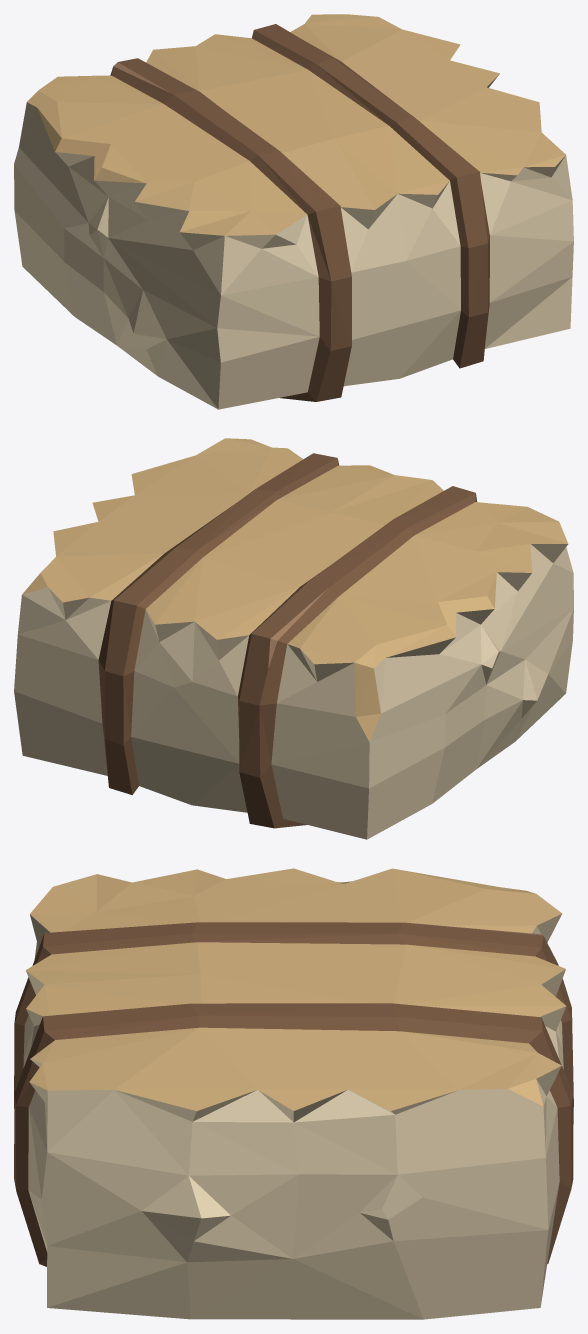
The model's file is EA_M_HayBale_Square_Dry_01d.fbx.
3 views of the same model, one above another, from view 1: azimuth 30°, elevation 25°; view 2: azimuth 150°, elevation 25°; view 3: azimuth 270°, elevation 25° (orthographic). The views are drawn at different scales.
Parts seen in each view (by area): view 1: EA_M_HayBale_Square_Dry_01d_LOD0; view 2: EA_M_HayBale_Square_Dry_01d_LOD0; view 3: EA_M_HayBale_Square_Dry_01d_LOD0.
Part boxes in pixels (x1,y1,x2,y2): EA_M_HayBale_Square_Dry_01d_LOD0: (14,14,573,409); EA_M_HayBale_Square_Dry_01d_LOD0: (14,438,573,839); EA_M_HayBale_Square_Dry_01d_LOD0: (14,868,573,1319).
Size of what is drawn, in the model's own units: 1.96 by 0.9856 by 1.87.
